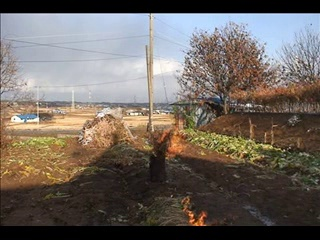fire: (156, 125, 185, 158), (180, 198, 211, 226)
